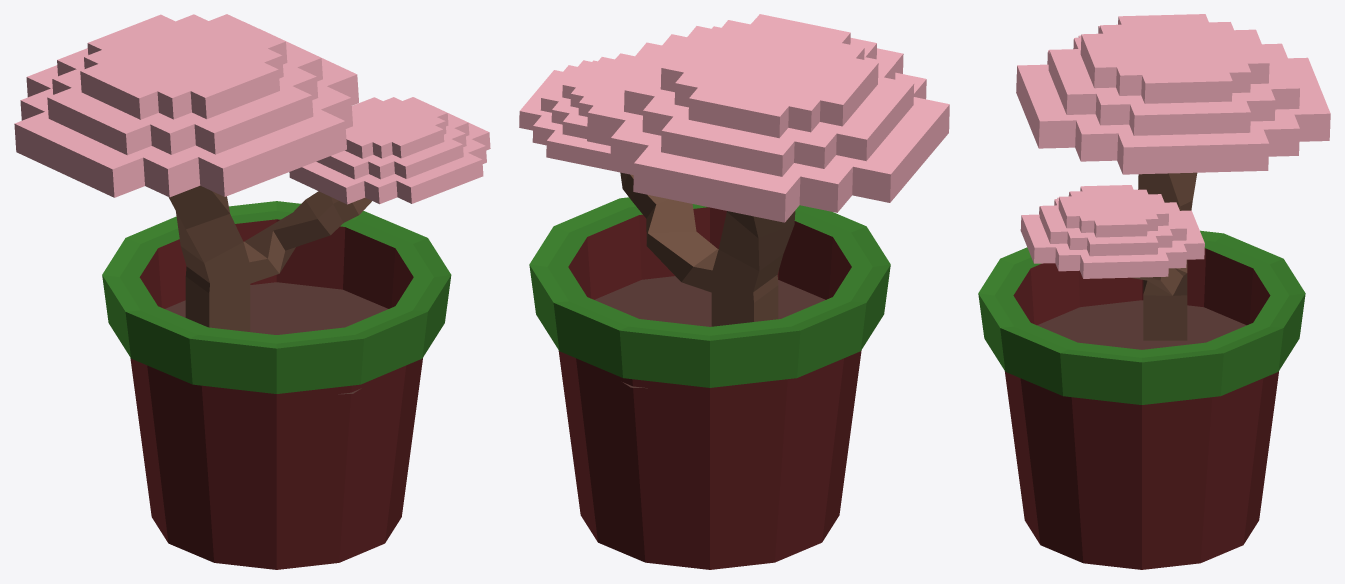
Rendered from Blocky_Sakura.fbx.
3 renders of one model, left to right at view 1: azimuth 30°, elevation 25°; view 2: azimuth 150°, elevation 25°; view 3: azimuth 270°, elevation 25°, orthographic. The views are drawn at different scales.
Parts seen in each view (by area): view 1: Cylinder; view 2: Cylinder; view 3: Cylinder.
Boxes of the visible parts, x1,y1,x2,y2 form: Cylinder: [14, 14, 490, 569]; Cylinder: [519, 14, 949, 569]; Cylinder: [978, 14, 1330, 569].
Size of the model in its own units: 295 by 331 by 239.
